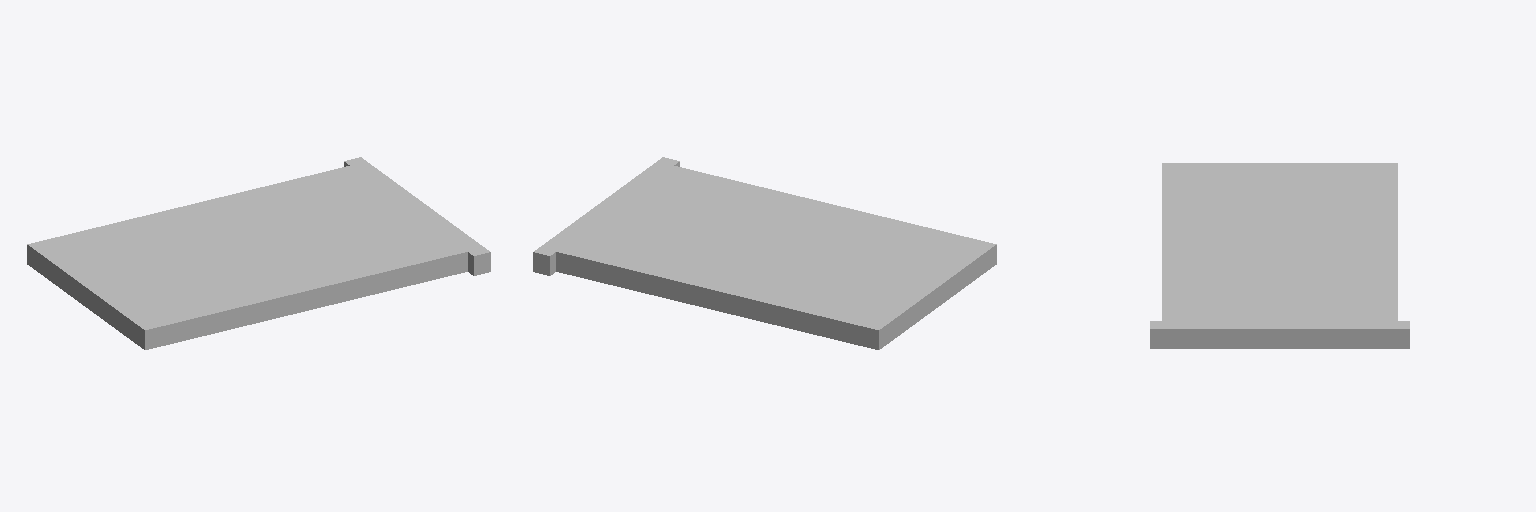
File: (12) Dell R220.obj
The picture shows the model from 3 angles: view 1: azimuth 30°, elevation 25°; view 2: azimuth 150°, elevation 25°; view 3: azimuth 270°, elevation 25°; orthographic projection.
Parts seen in each view (by area): view 1: unit_Cube.001; view 2: unit_Cube.001; view 3: unit_Cube.001.
Part boxes in pixels (x1,y1,x2,y2): unit_Cube.001: (27,157,490,349); unit_Cube.001: (533,157,996,349); unit_Cube.001: (1150,163,1409,348).
Size of the model in its own units: 0.8 by 0.045 by 0.53.